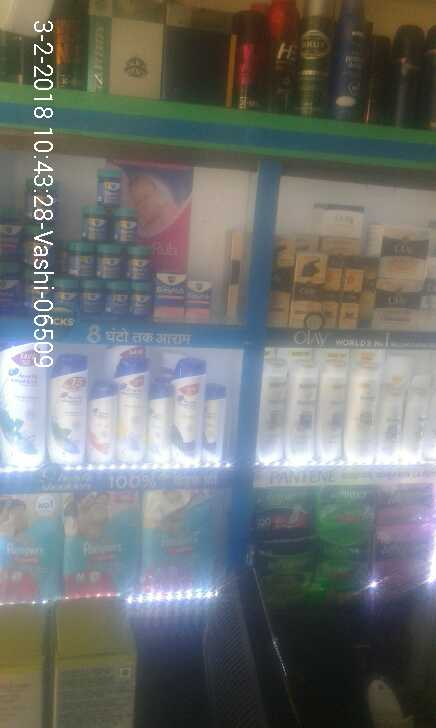beauty: (288, 238, 362, 337), (1, 325, 48, 470), (167, 357, 207, 471), (48, 349, 84, 470), (117, 349, 148, 473), (314, 349, 343, 477), (252, 367, 289, 467), (374, 217, 426, 279), (85, 380, 120, 468), (196, 376, 226, 471), (368, 286, 425, 333), (292, 363, 317, 469), (352, 371, 376, 468), (150, 363, 170, 472)
pharmacy: (141, 484, 224, 603), (65, 484, 140, 603), (2, 491, 61, 606), (253, 489, 320, 552), (67, 239, 154, 284), (323, 490, 376, 553), (82, 282, 148, 322), (81, 206, 140, 248), (95, 164, 122, 212)
